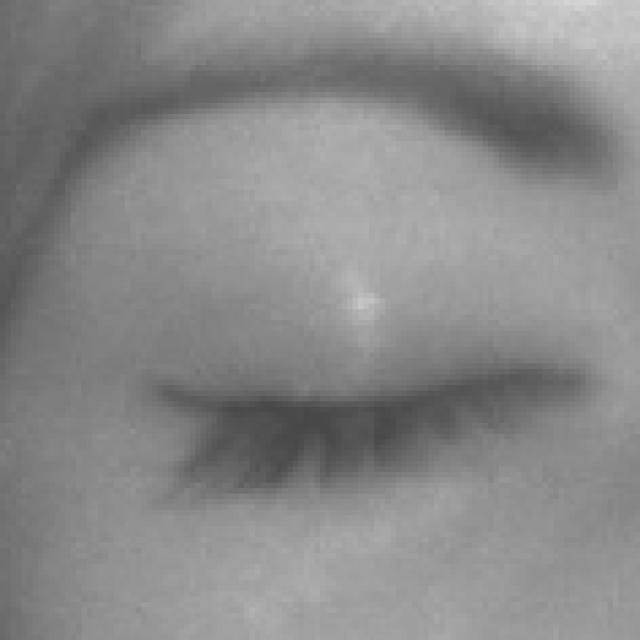Eyeclosed: (152, 218, 583, 616)
